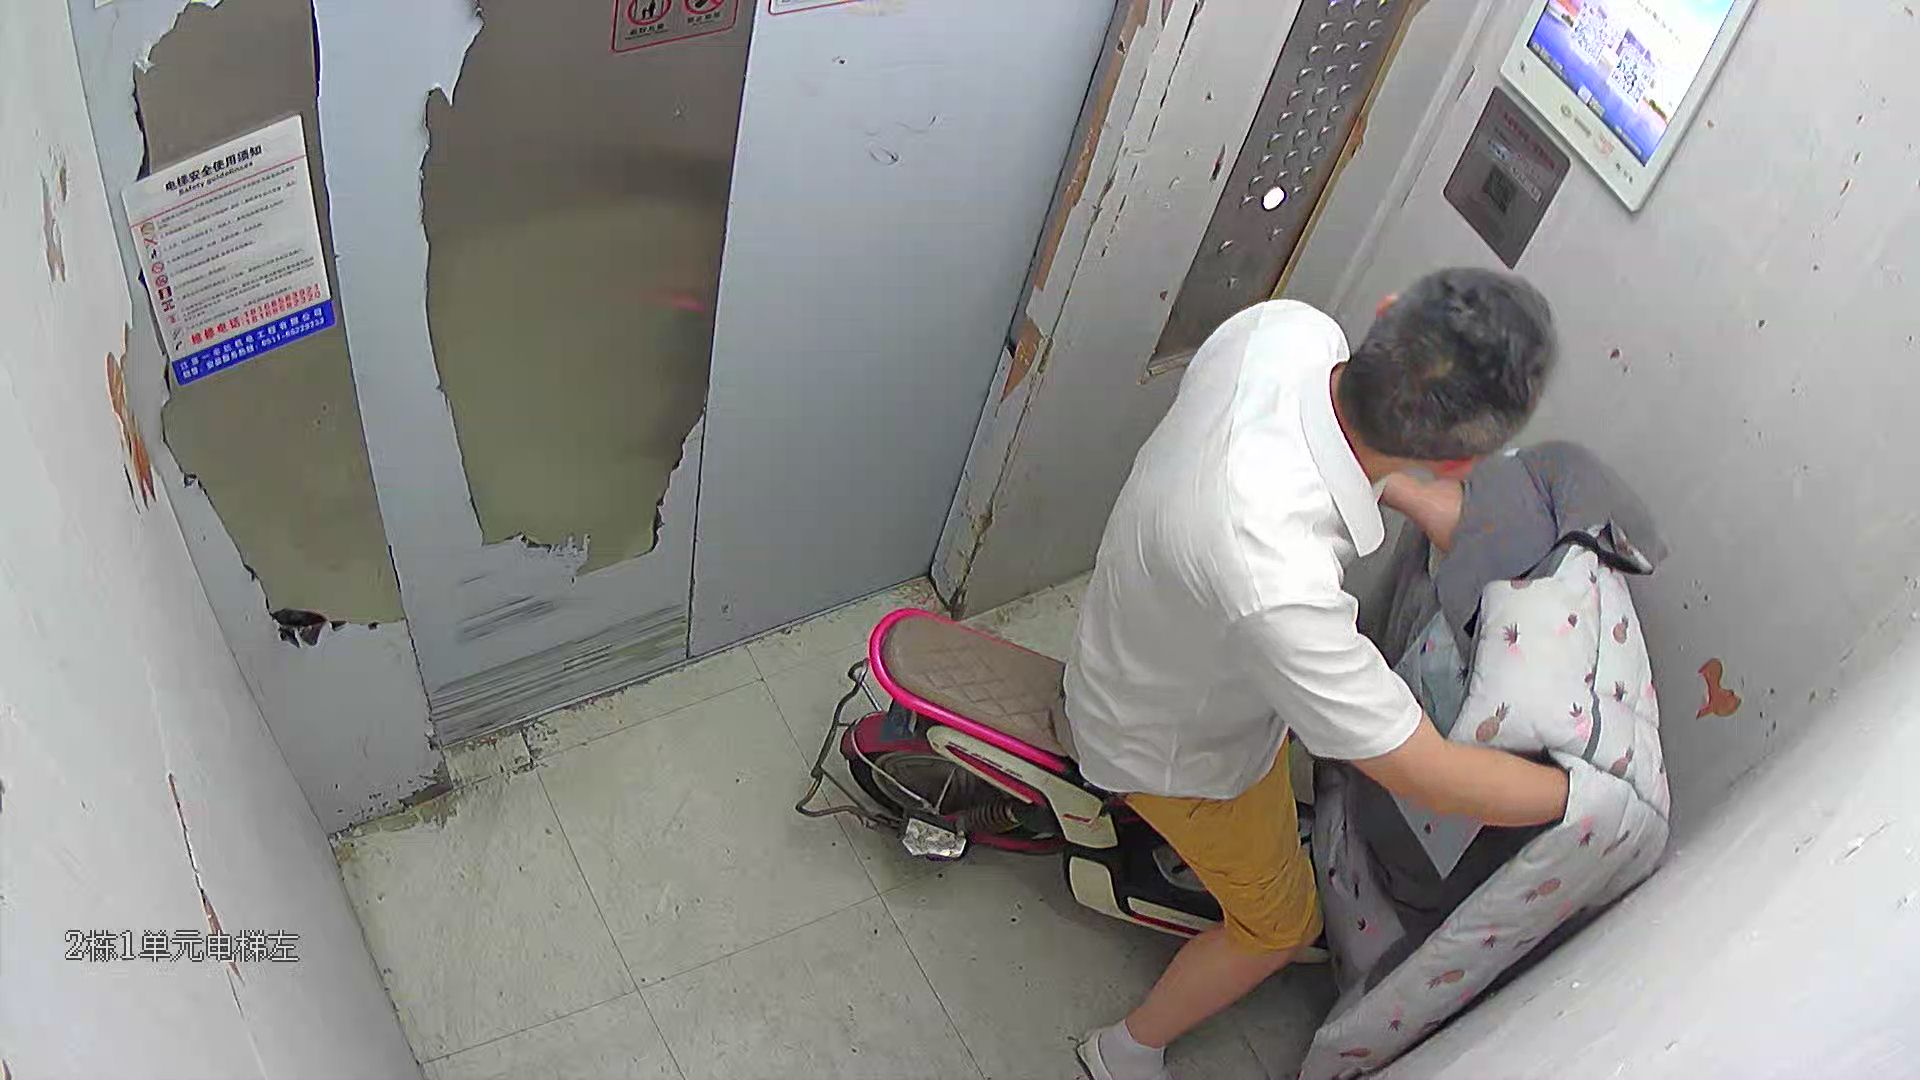Electric-bicycle: (847, 524, 1652, 1007)
